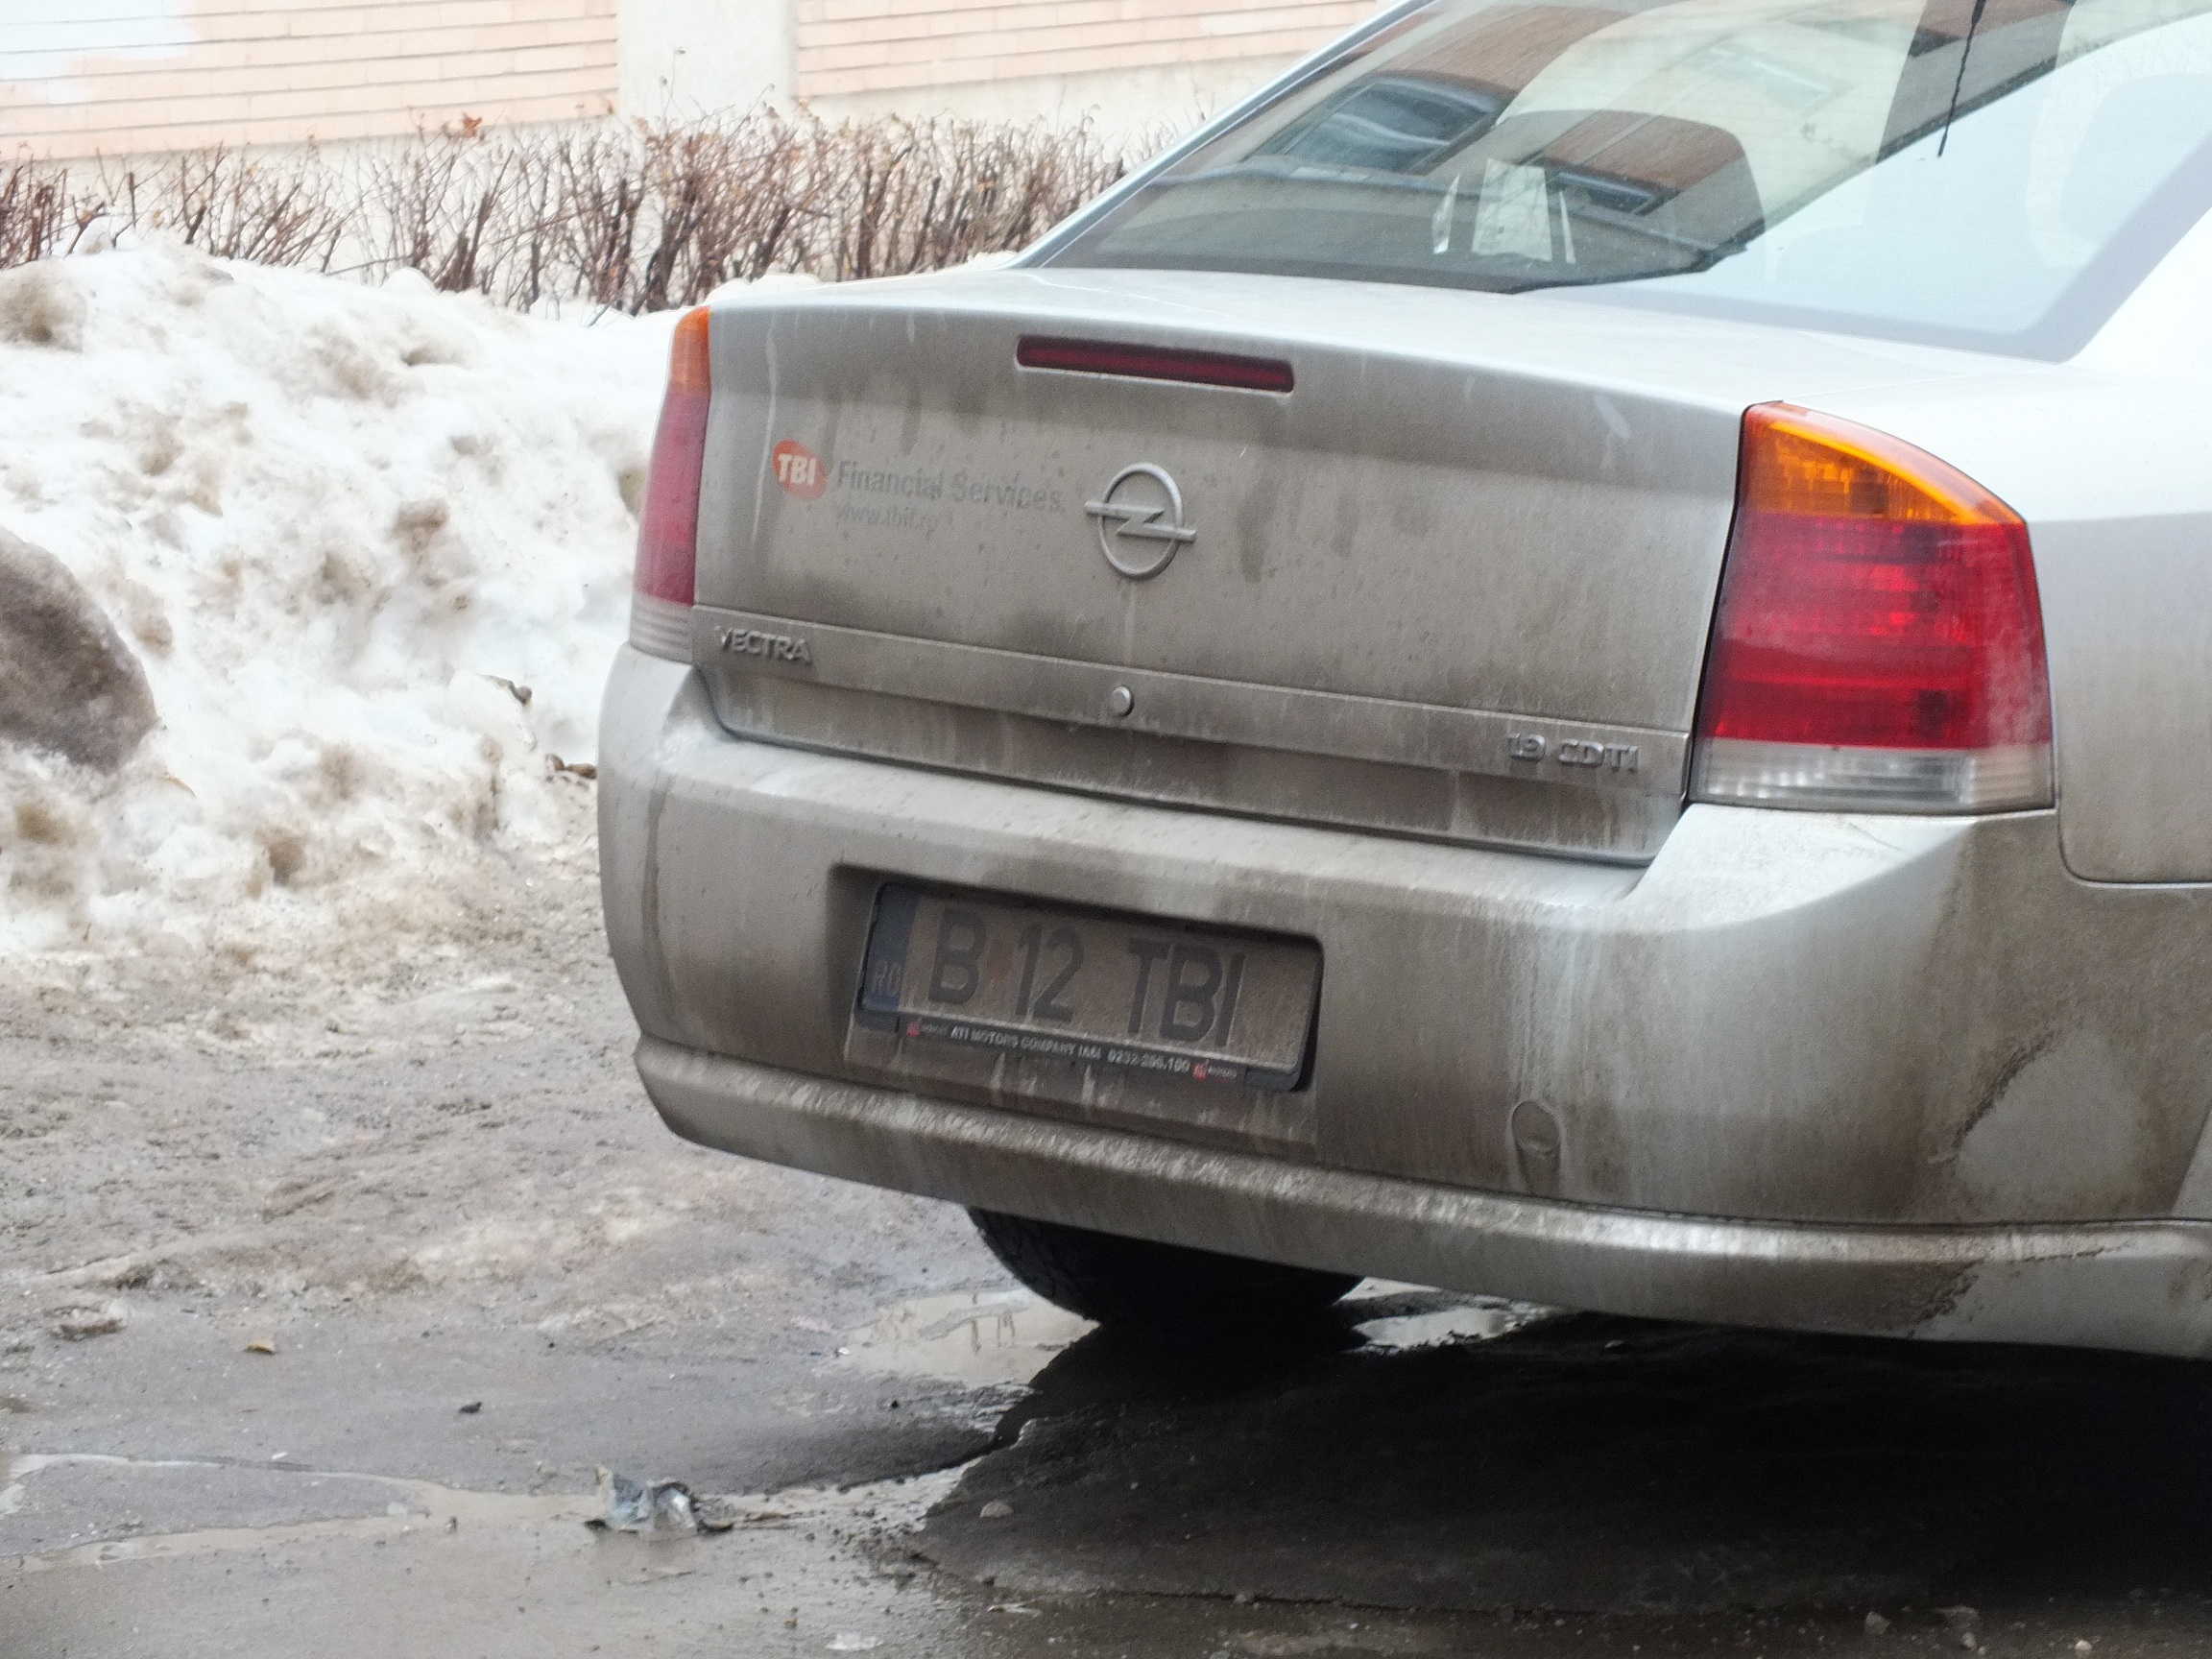B12TBI: (832, 857, 1331, 1094)
